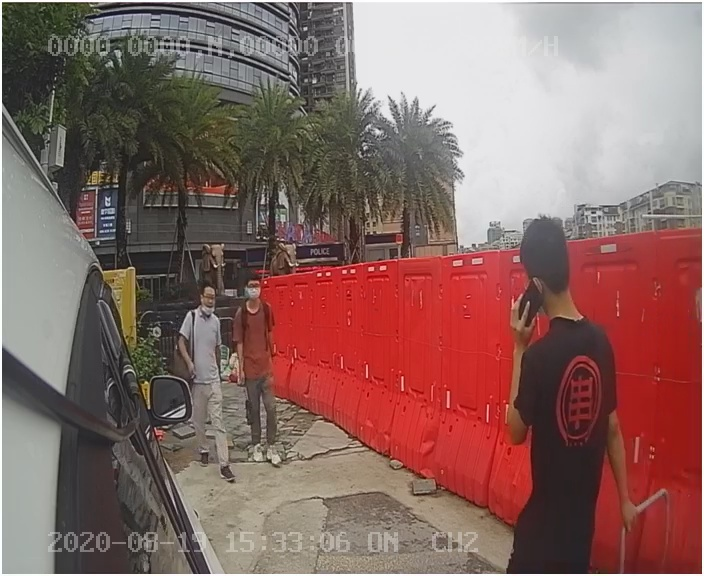person: (482, 225, 645, 561), (228, 277, 307, 470)
